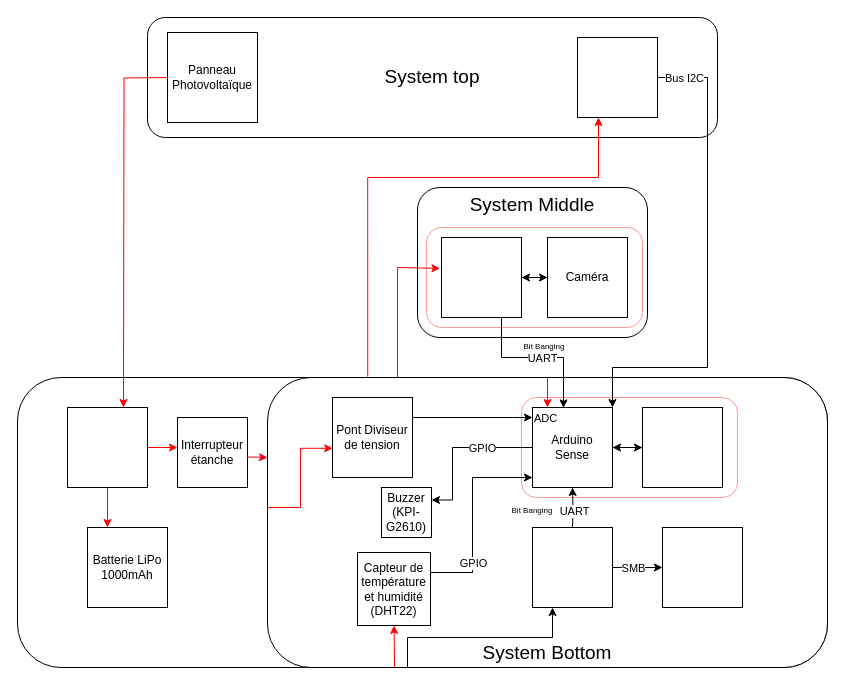
Image size: 845x693. Some labels were removed from this diagram. Here are the shapes that lost their labels. From the top down, the centre of each, then its label:
At (617,77): "Luxmètre (SEN0562 Ambient light sensor)".
At (481,277): "ESP32 S3 Sense (Seed Studio)".
At (107,447): "Systeme de recharge (Module Chargeur LiPo DFR0264)".
At (682,447): "Microphone".
At (572,567): "LoRa-E5".
At (702,567): "Antenne".
